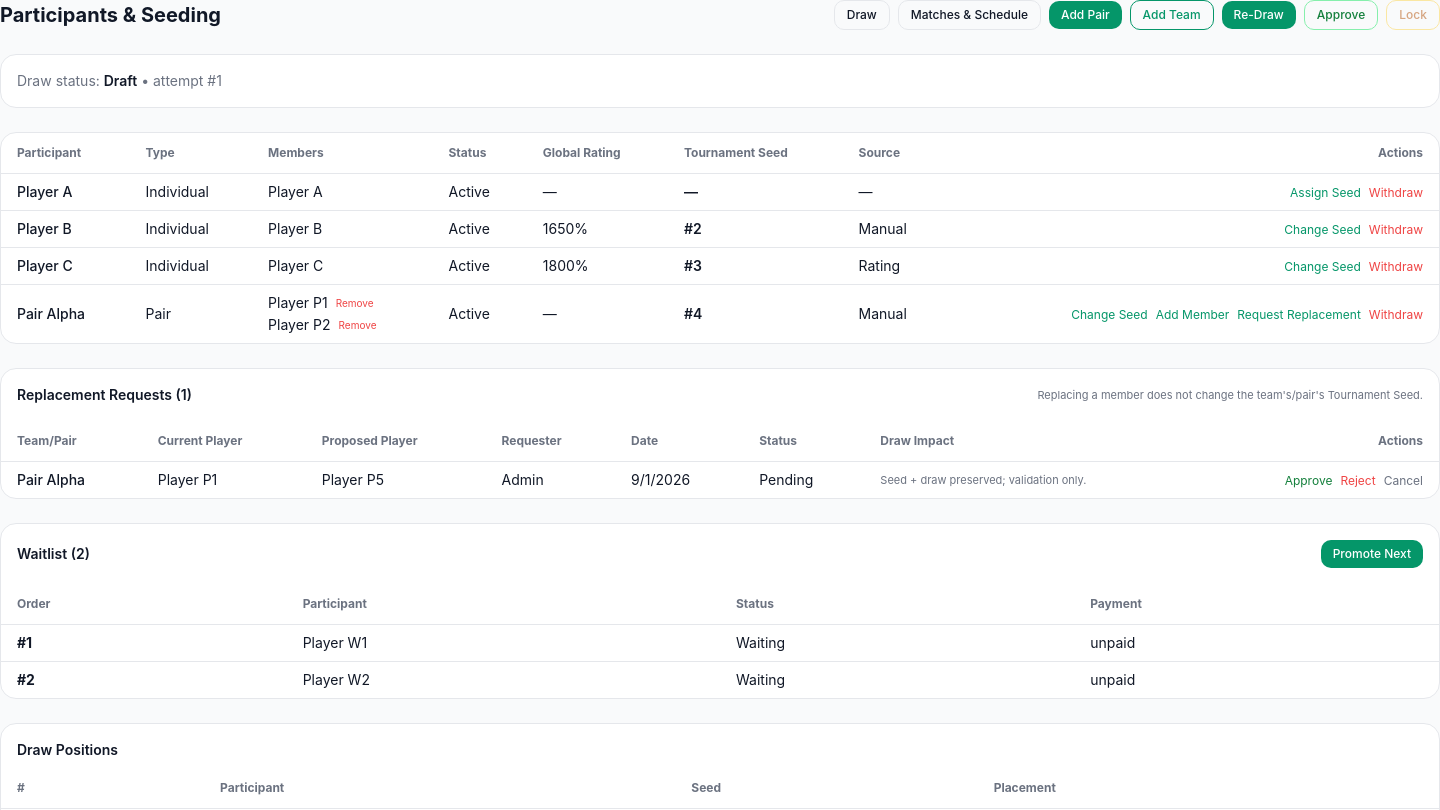
Test case: B4 — doubles pairing player picker (name search, competition scope) › org mode uses the ORG-scoped registrations query and never the platform endpoint
Step 1. Click the button "Add Pair" → [1085, 15], box [1049,1,1122,29]
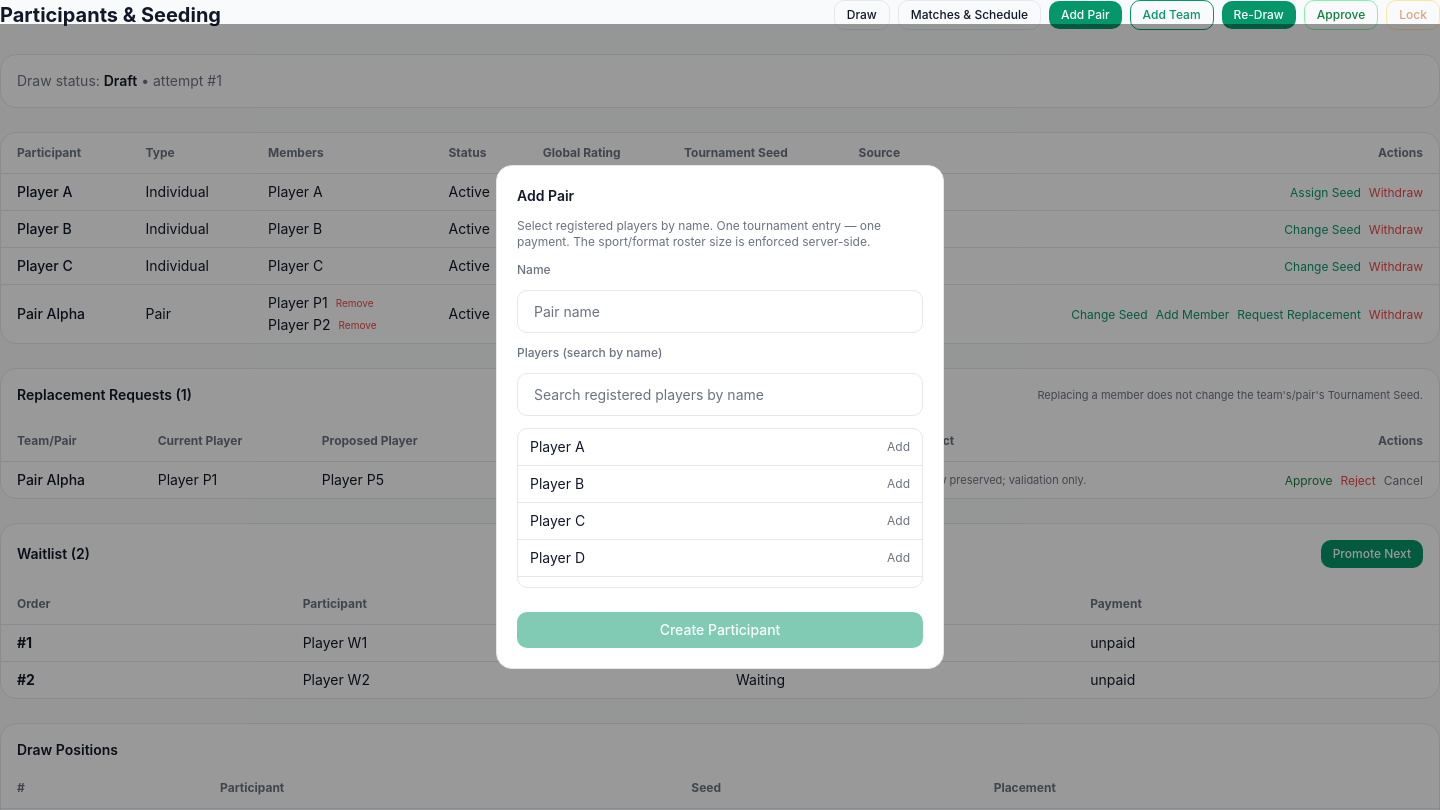
Expected: the search field labelled "Players (search by name)" is shown, [517,373,923,416]
